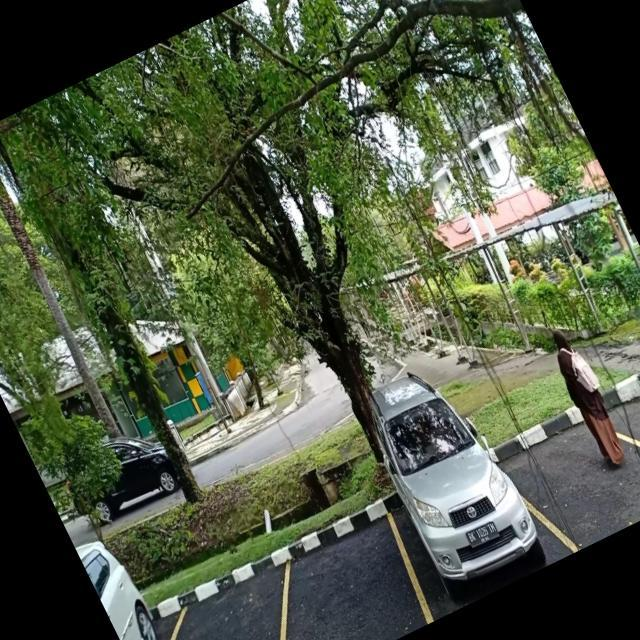empty: (249, 486, 439, 640), (499, 370, 640, 558), (119, 555, 312, 640)
occupied: (366, 421, 563, 621)
